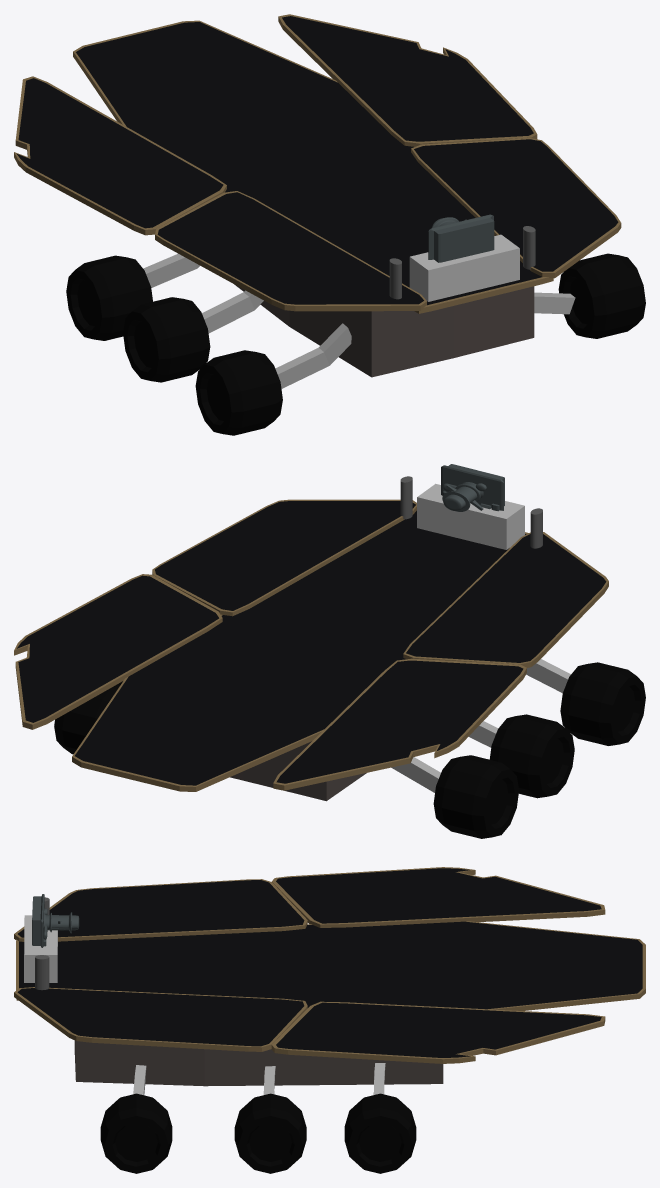
The model's file is Rover4.0.fbx.
3 renders of one model, top to bottom at view 1: azimuth 30°, elevation 25°; view 2: azimuth 150°, elevation 25°; view 3: azimuth 270°, elevation 25°, orthographic. The views are drawn at different scales.
Parts seen in each view (by area): view 1: Panels, Body, Wheel front.R.002, Wheel front.R.001, Wheel front.R.005, Wheel front.R, logo.001, Chemcam-Small.001, r1.001, r2.001, r3.001, l1.001; view 2: Panels, Wheel front.R, Wheel front.R.002, Wheel front.R.001, logo.001, Chemcam-Small.001, Body, Wheel front.R.003, r1.001, r3.001, Cylinder.003; view 3: Panels, Body, Wheel front.R.005, Wheel front.R.003, Wheel front.R.004, logo.001, Chemcam-Small.001, Cylinder.003.
Boxes of the visible parts, x1,y1,x2,y2 form: Panels: (14,14,621,313); Body: (234,284,534,377); Wheel front.R.002: (195,350,282,435); Wheel front.R.001: (123,297,210,382); Wheel front.R.005: (558,253,645,338); Wheel front.R: (66,255,152,340); logo.001: (409,234,519,301); Chemcam-Small.001: (428,214,494,262); r1.001: (275,323,351,388); r2.001: (202,290,263,333); r3.001: (143,253,199,287); l1.001: (534,292,575,314); Panels: (14,499,608,791); Wheel front.R: (433,755,519,838); Wheel front.R.002: (560,662,645,745); Wheel front.R.001: (489,714,574,798); logo.001: (417,483,524,549); Chemcam-Small.001: (441,464,504,511); Body: (230,741,366,801); Wheel front.R.003: (54,684,120,754); r1.001: (526,659,570,692); r3.001: (391,757,440,792); Cylinder.003: (400,476,412,519); Panels: (14,867,645,1063); Body: (74,1040,443,1086); Wheel front.R.005: (100,1093,172,1173); Wheel front.R.003: (344,1093,416,1173); Wheel front.R.004: (234,1093,306,1173); logo.001: (24,915,57,982); Chemcam-Small.001: (32,894,79,947); Cylinder.003: (35,955,49,990).
Bounding box in the file's own units: 6398 × 2724 × 8894.
